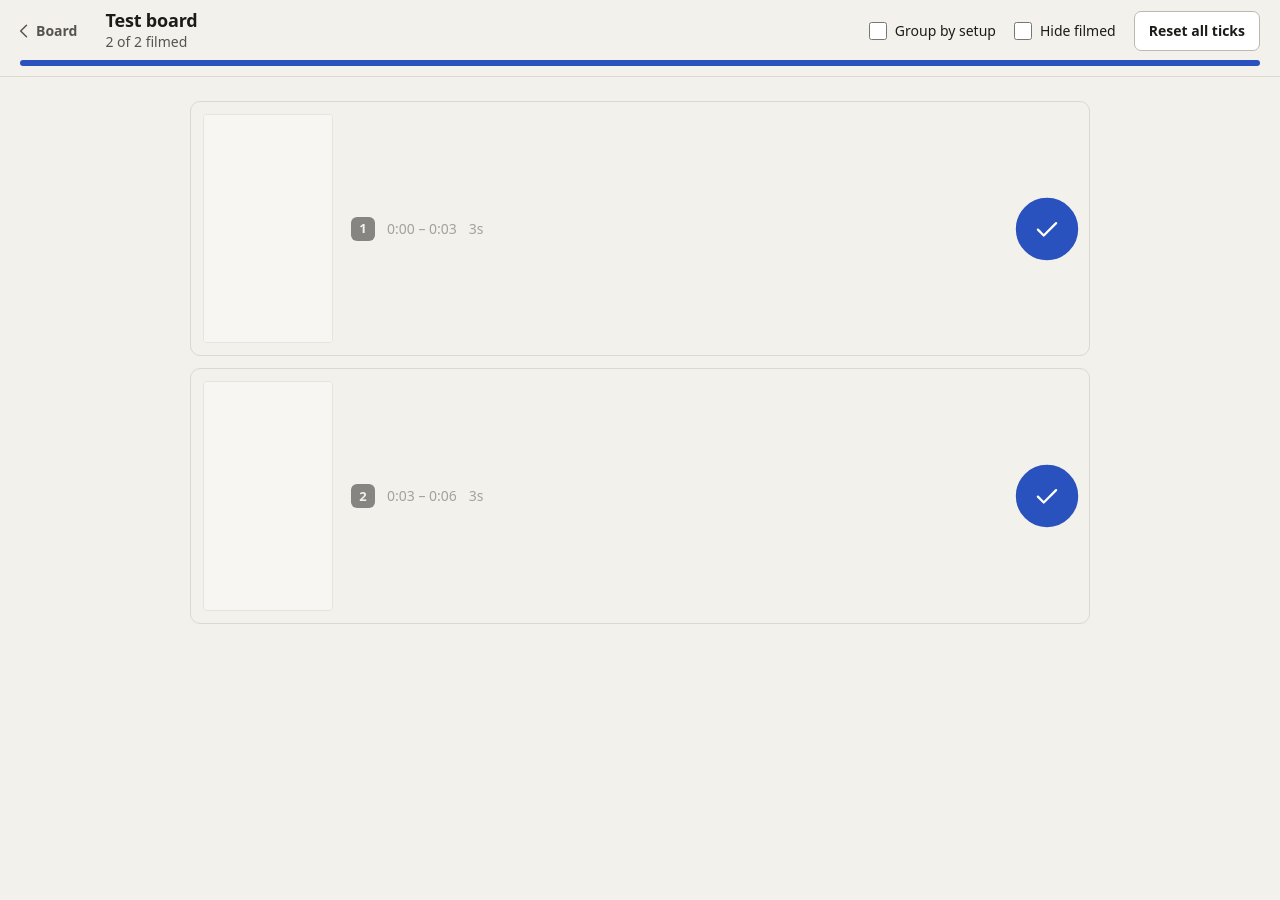
Test: "Reset all ticks" asks for confirmation
This screenshot has width=1280, height=900.
Click the button "Reset all ticks" at (1197, 31), box [1134, 11, 1260, 51]
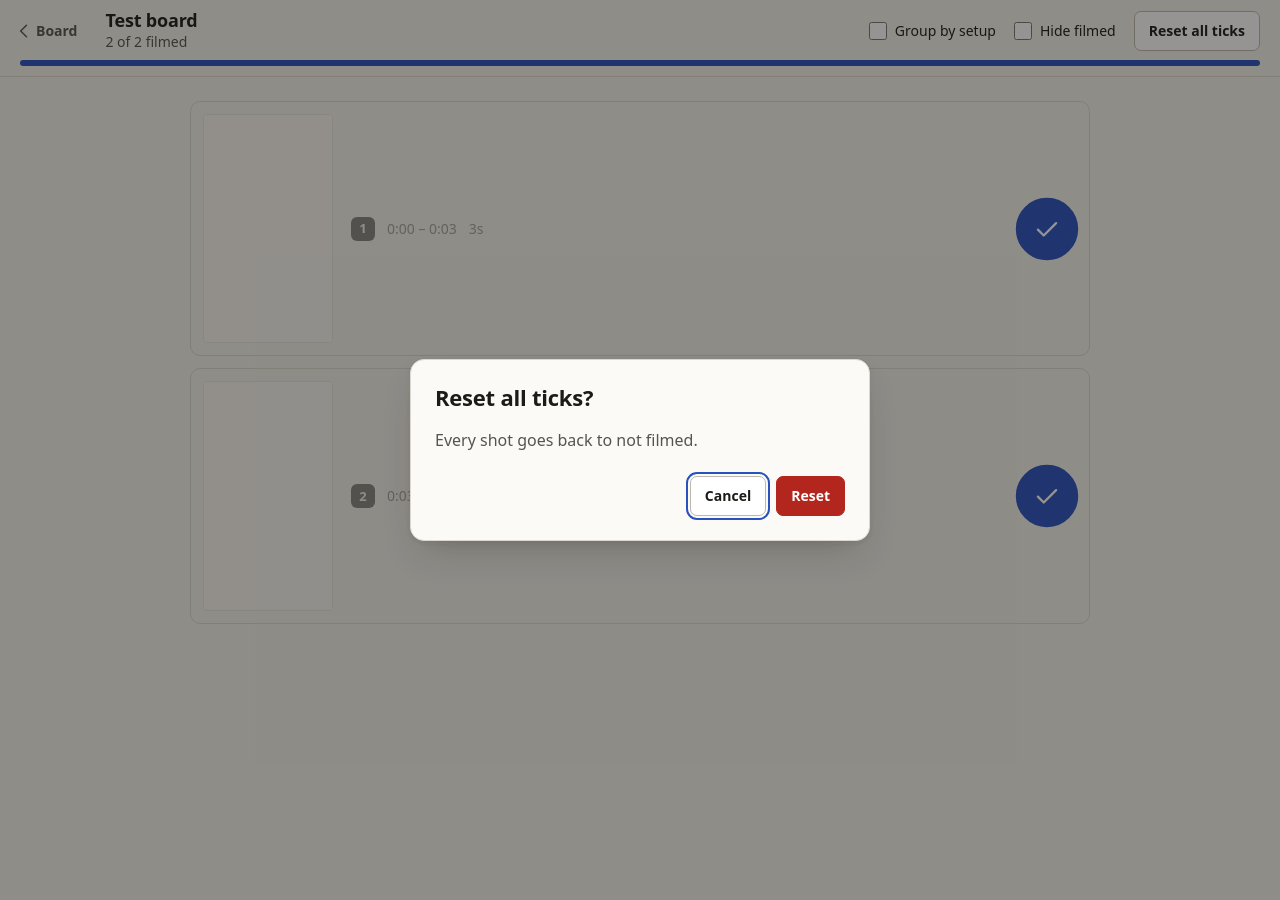
Click the button "Reset" at (811, 496), box [776, 476, 845, 516]
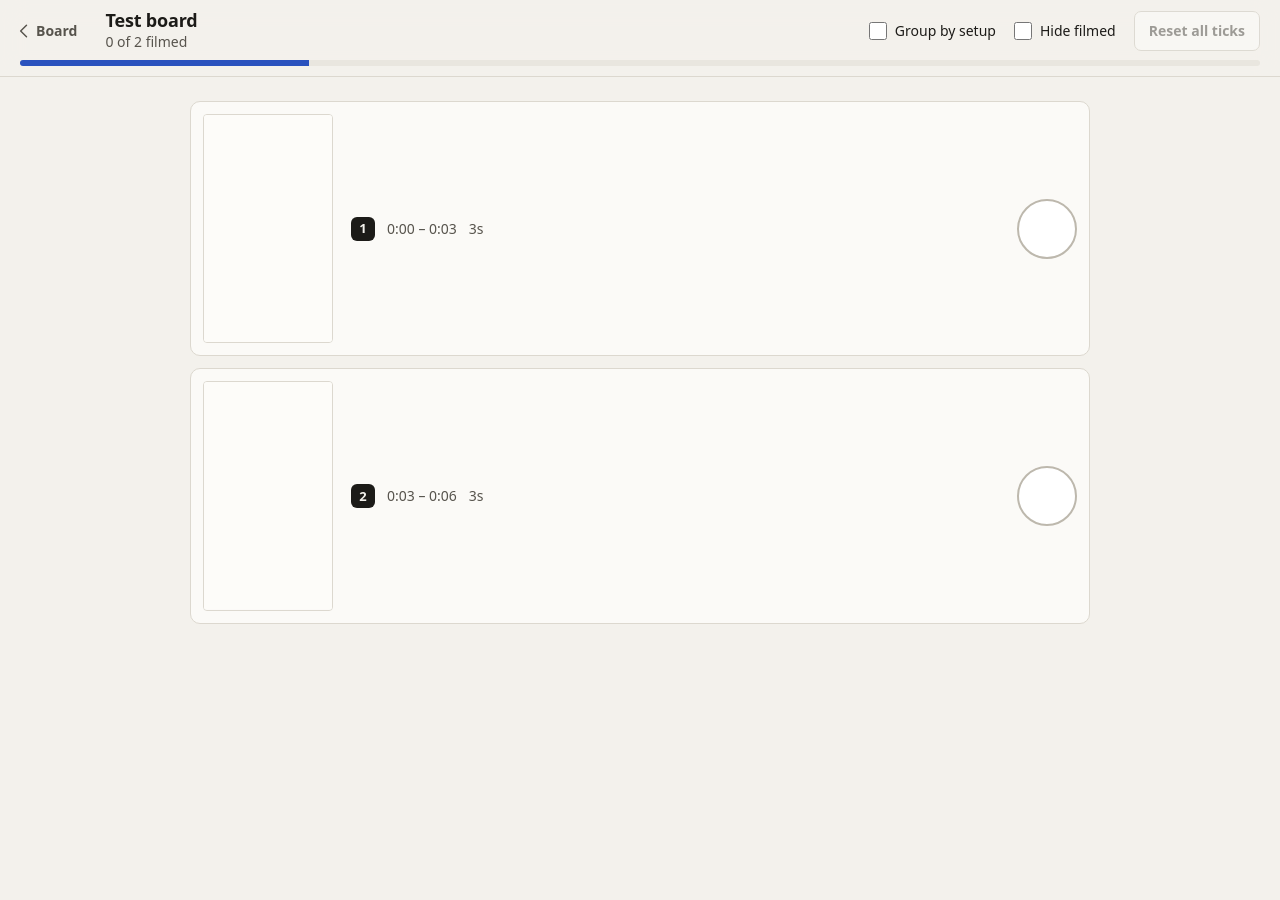
Check: the text "0 of 2 filmed" is shown, box [106, 32, 187, 51]
